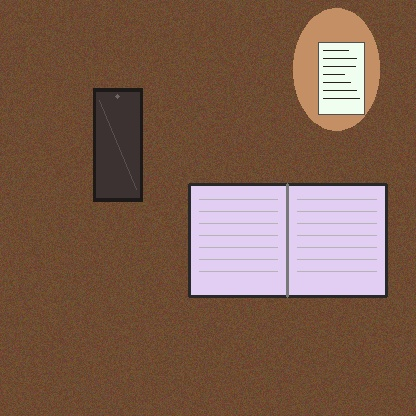book: (189, 184, 386, 296)
cell_phone: (93, 88, 142, 201)
exam_chit: (318, 42, 364, 114)
